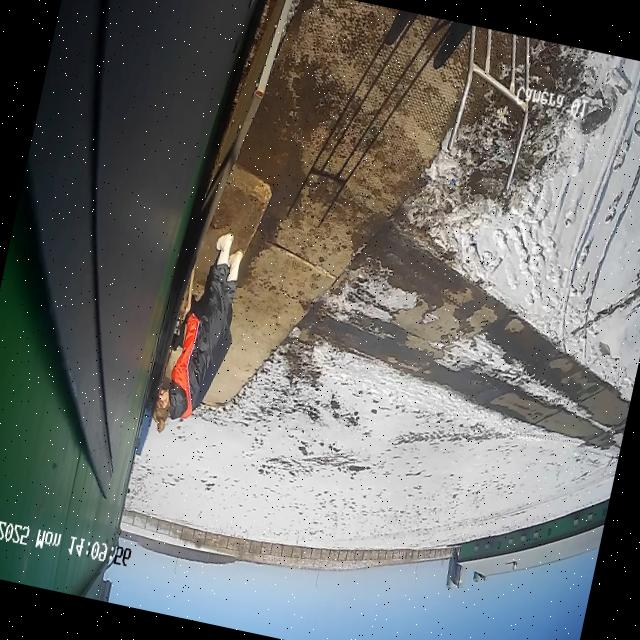Red uniform: (147, 221, 255, 435)
